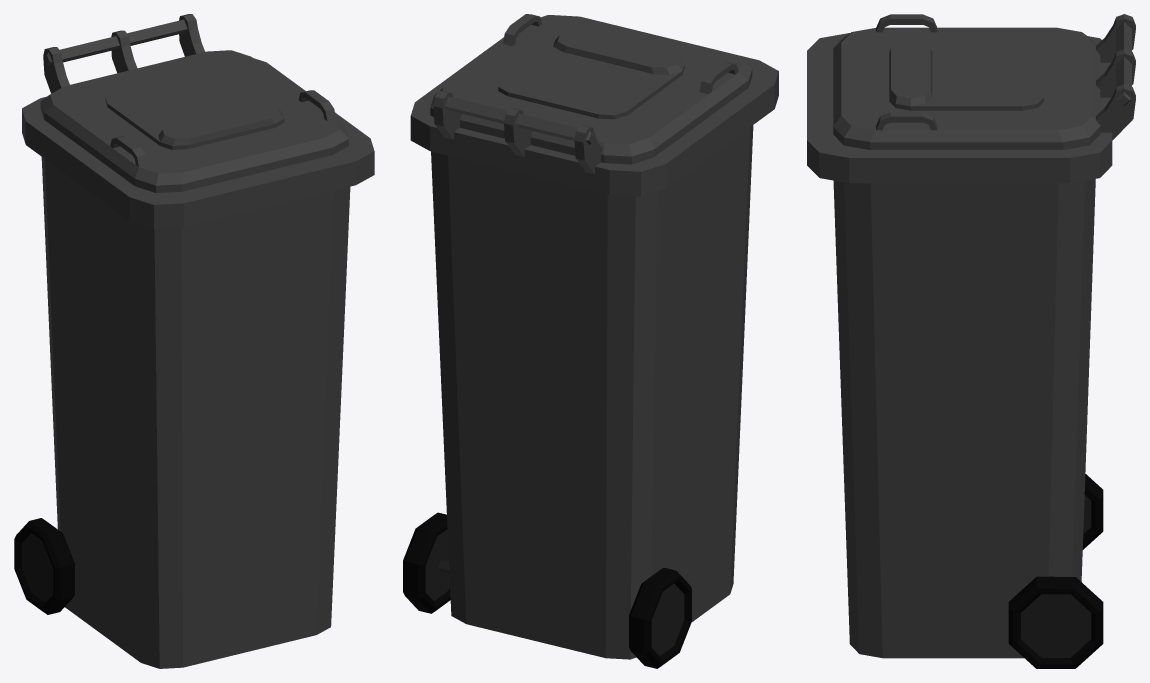
Rendered from trashcan.fbx.
The picture shows the model from 3 angles, left to right: view 1: azimuth 30°, elevation 25°; view 2: azimuth 150°, elevation 25°; view 3: azimuth 270°, elevation 25°; orthographic projection. The views are drawn at different scales.
Parts seen in each view (by area): view 1: trash bin; view 2: trash bin; view 3: trash bin.
Part boxes in pixels (x1,y1,x2,y2): trash bin: (14,14,374,668); trash bin: (403,14,778,668); trash bin: (807,14,1135,668).
Bounding box in the file's own units: 53.5 × 111 × 59.5.
Materials: 1 (1 with a texture image).
